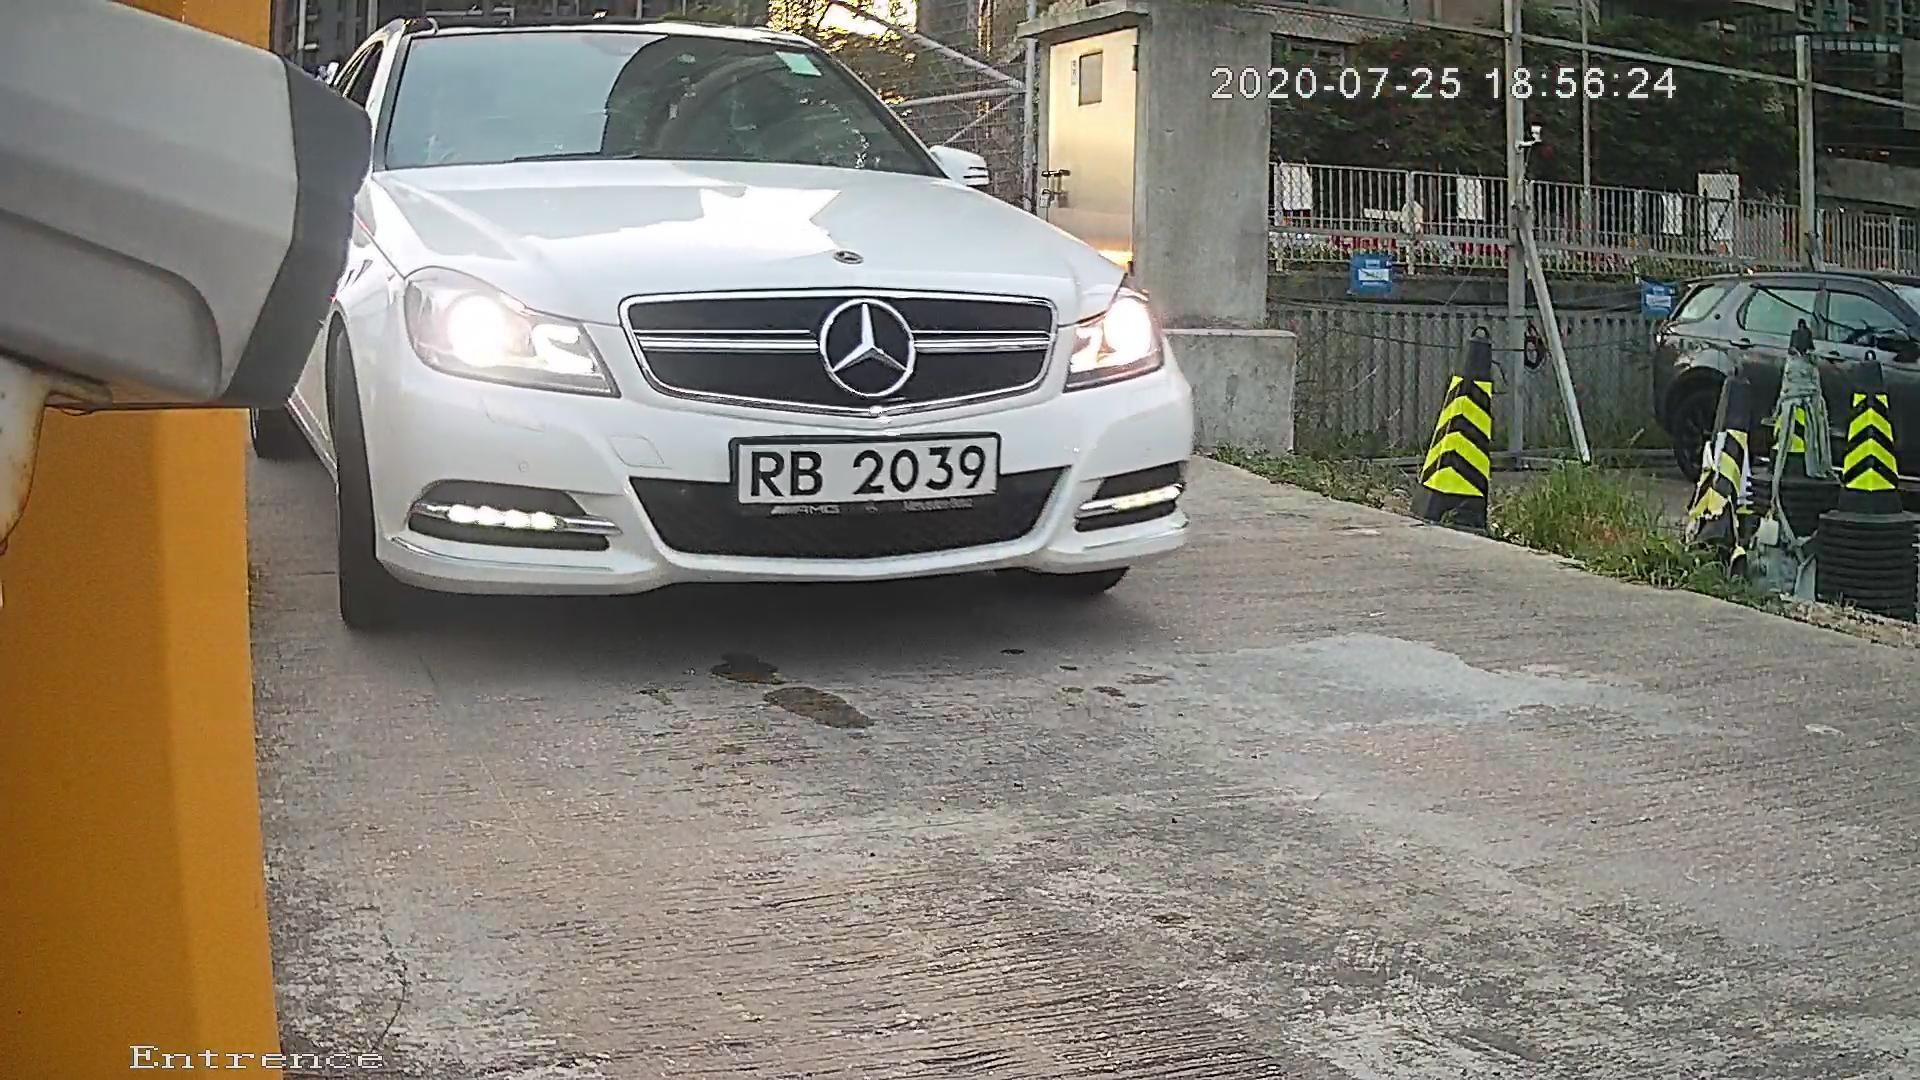privatecar: (301, 5, 1286, 637)
